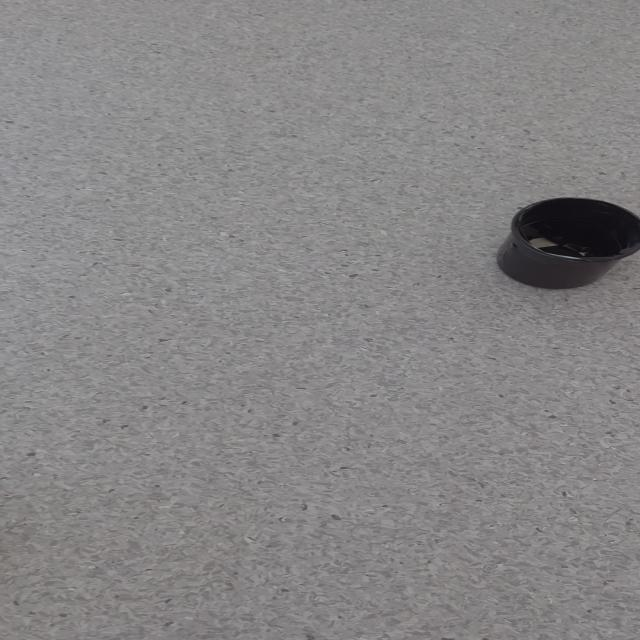mug: (495, 196, 639, 290)
